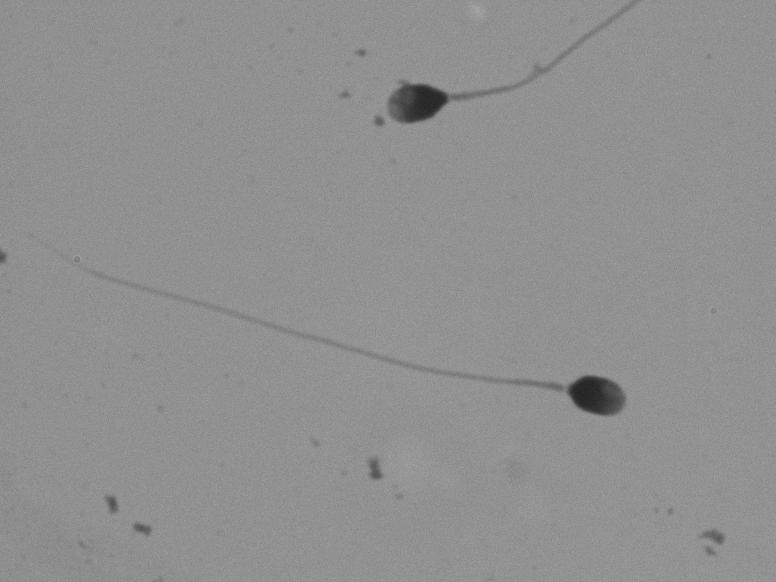Normal: (30, 219, 671, 448)
